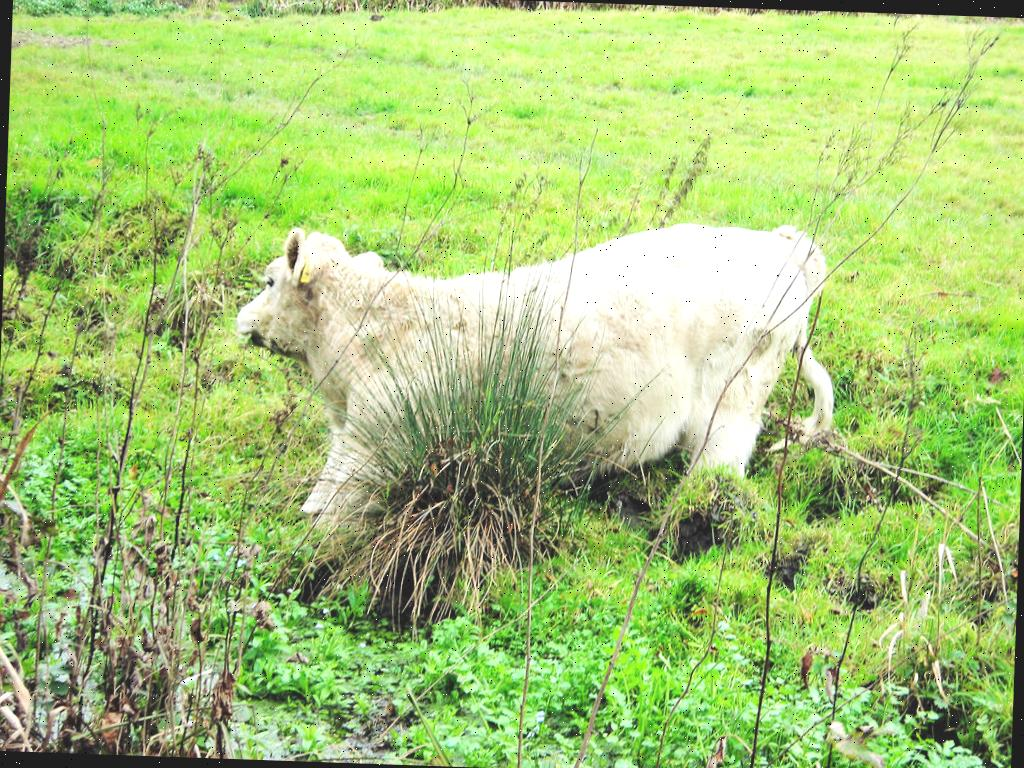Sheep: (226, 207, 841, 545)
